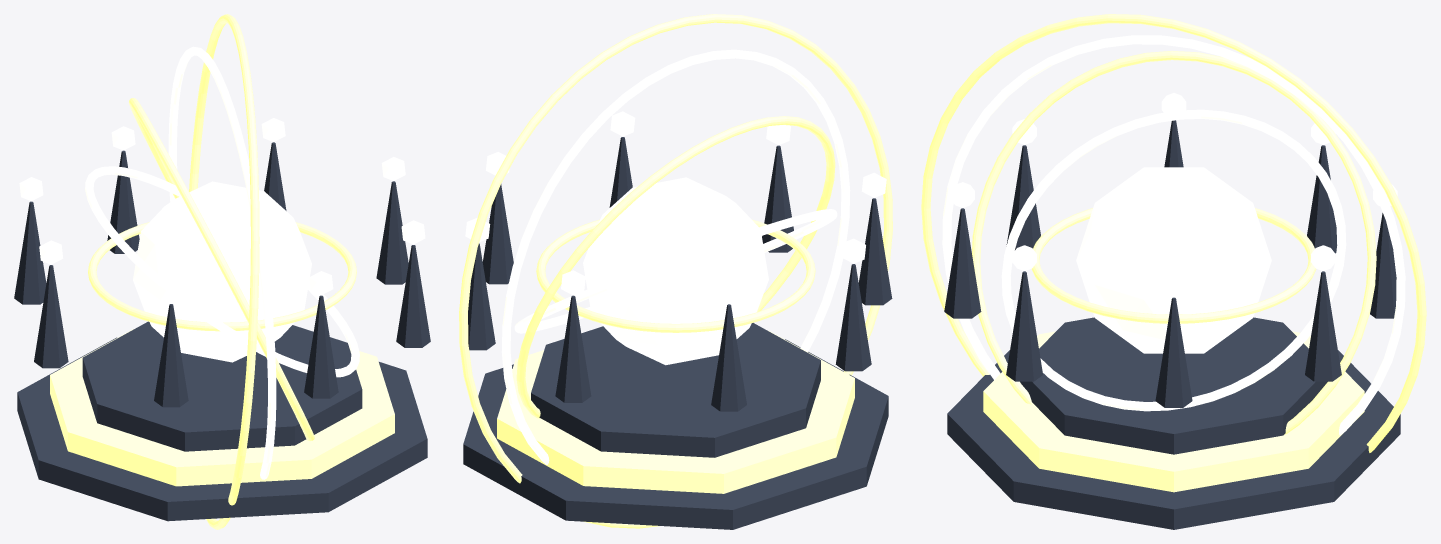
File: gpu-blender-v51.glb
3 renders of one model, left to right at view 1: azimuth 30°, elevation 25°; view 2: azimuth 150°, elevation 25°; view 3: azimuth 270°, elevation 25°, orthographic. The views are drawn at different scales.
Visible parts, largest first — view 1: Cylinder.002, Cylinder, SovereignCore_printify-connector, Cylinder.001, Torus.004, Torus.003, Torus.001, Torus.002, Torus, Cone.005, Cone.004, Cone.006 (+5 smaller); view 2: Cylinder.002, SovereignCore_printify-connector, Cylinder, Cylinder.001, Torus.004, Torus.003, Torus.002, Torus.001, Torus, Cone.004, Cone.003, Cone.002 (+5 smaller); view 3: SovereignCore_printify-connector, Cylinder.002, Cylinder, Cylinder.001, Torus.004, Torus.003, Torus.002, Torus.001, Torus, Cone.006, Cone.001, Cone.007 (+5 smaller).
Boxes of the visible parts, x1,y1,x2,y2 form: Cylinder.002: (82,321,362,451); Cylinder: (17,337,427,521); SovereignCore_printify-connector: (133,181,311,362); Cylinder.001: (50,329,394,486); Torus.004: (189,14,259,529); Torus.003: (168,46,276,479); Torus.001: (85,166,359,377); Torus.002: (129,98,314,440); Torus: (88,222,356,331); Cone.005: (154,304,188,407); Cone.004: (34,265,68,368); Cone.006: (304,295,338,398); Cylinder.002: (531,323,820,457); SovereignCore_printify-connector: (583,177,768,365); Cylinder: (463,339,888,529); Cylinder.001: (497,330,854,493); Torus.004: (459,14,892,528); Torus.003: (501,49,850,464); Torus.002: (516,116,835,418); Torus.001: (514,209,837,333); Torus: (536,219,815,332); Cone.004: (835,264,871,371); Cone.003: (711,304,746,411); Cone.002: (555,295,591,402); SovereignCore_printify-connector: (1076,167,1271,353); Cylinder.002: (1020,317,1327,454); Cylinder: (947,350,1400,529); Cylinder.001: (983,331,1364,492); Torus.004: (921,14,1426,452); Torus.003: (942,35,1405,435); Torus.002: (972,50,1376,434); Torus.001: (1001,109,1346,411); Torus: (1031,208,1316,323); Cone.006: (944,208,981,318); Cone.001: (1305,271,1341,381); Cone.007: (1006,271,1042,381).
Bounding box in the file's own units: 4.41 × 5.33 × 4.9.
